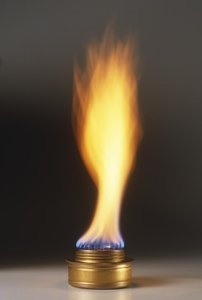fire: (59, 29, 154, 256)
